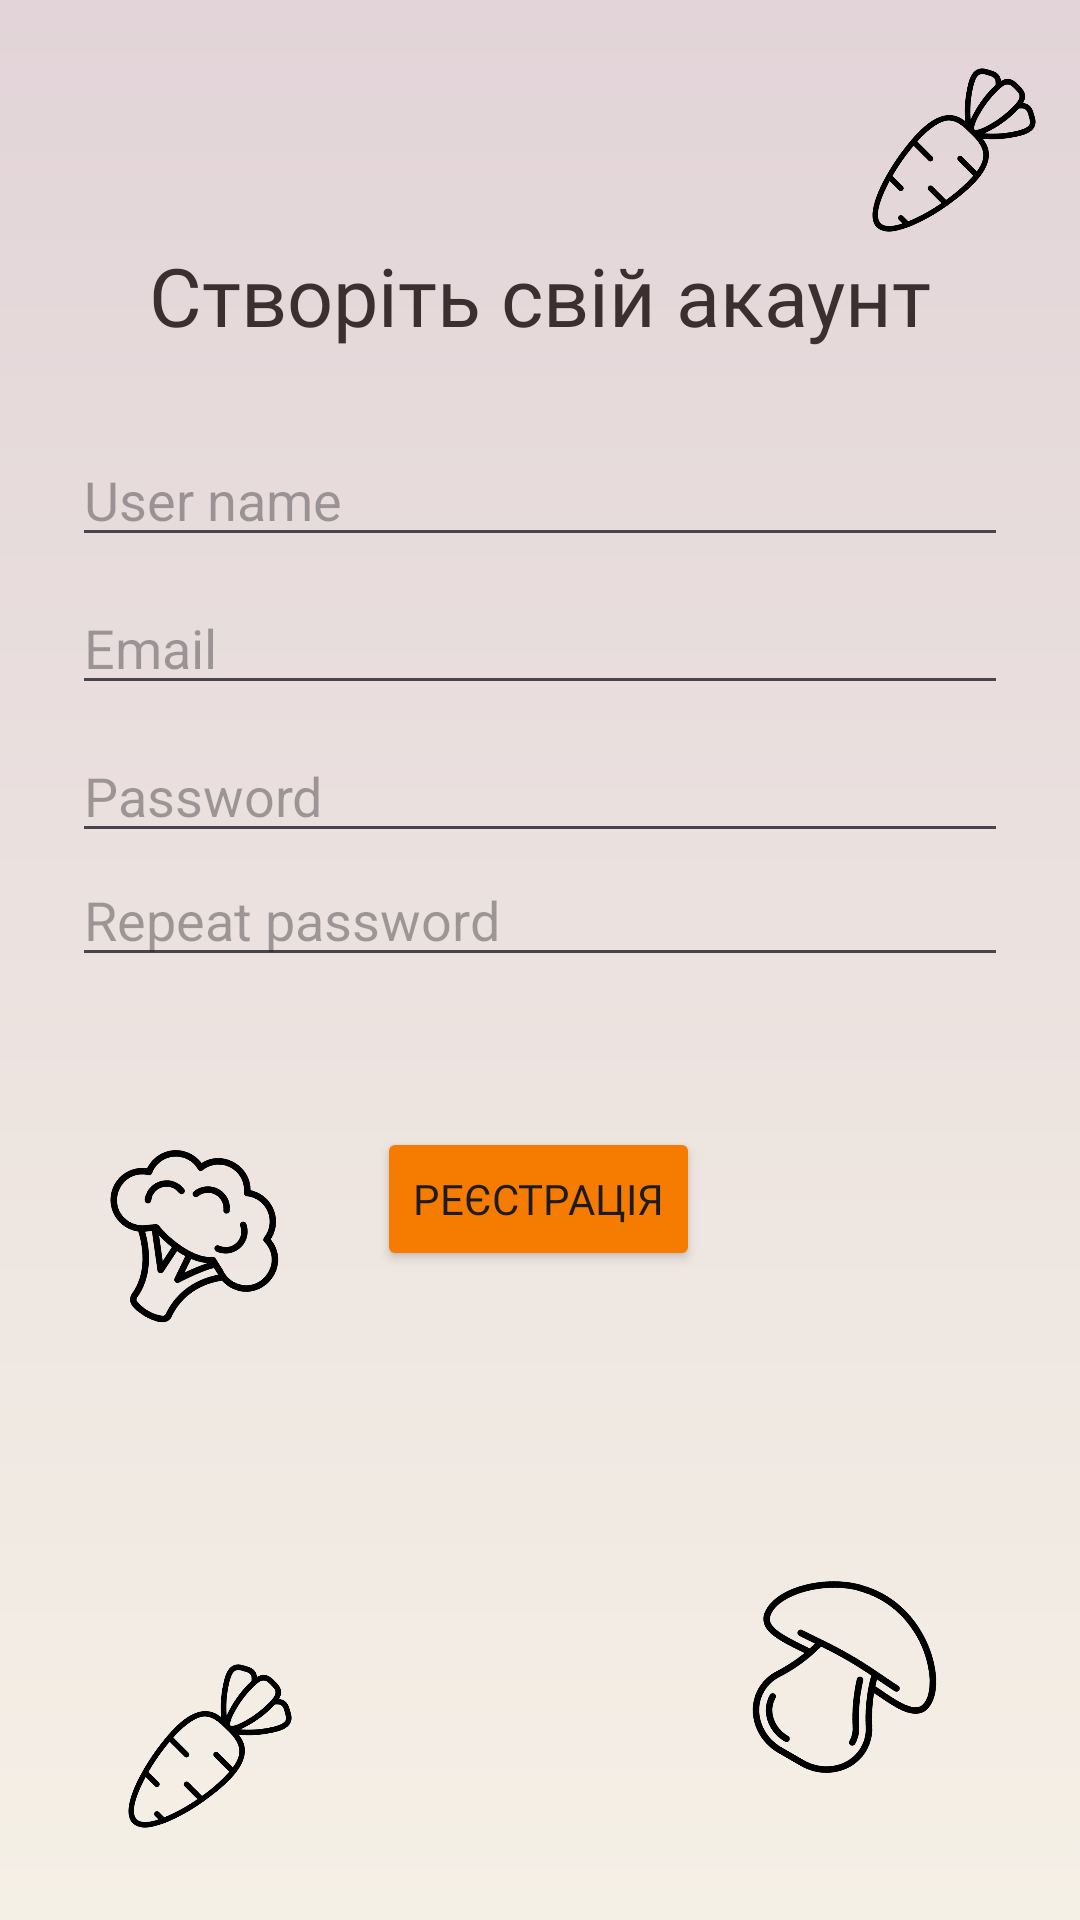

Where icons sit on this 1080*1920 app screen, as bbox=[x1, y1, x2, y2]:
corrots: bbox=[872, 68, 1036, 232], bbox=[128, 1664, 292, 1828]
